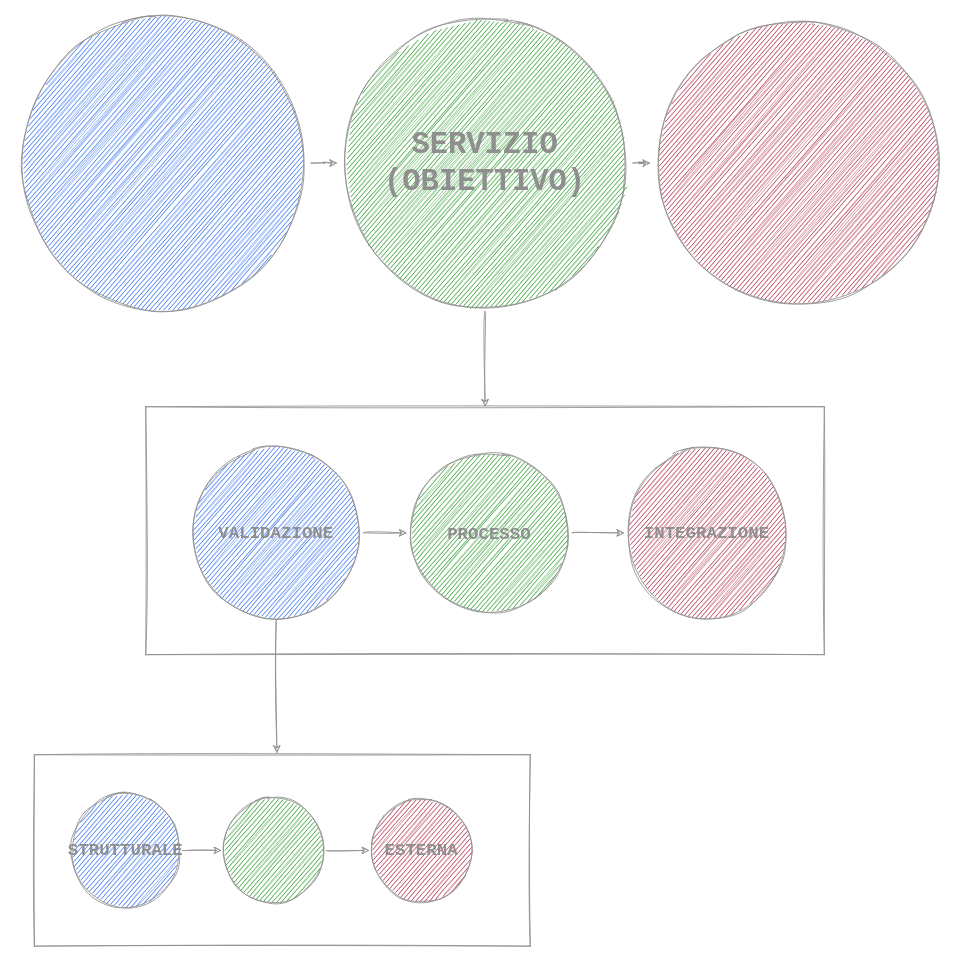
Image size: 961x961. Some labels were removed from this diagram. Each missing label, with the box of its shape:
BROKER (DIPENDENZA): (649, 14, 946, 311)
CONTROLLER (ESPOSIZIONE): (14, 14, 311, 311)
LOGICA: (221, 797, 326, 903)
